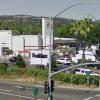Traffic light: (34, 71, 60, 99)
